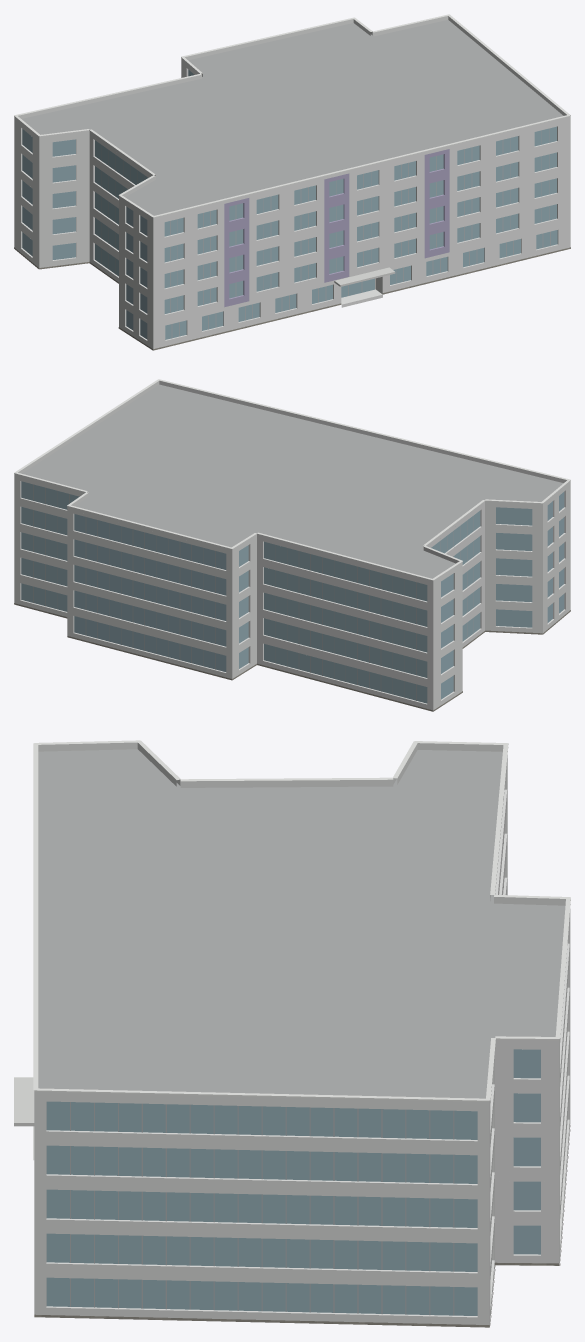
3 renders of one model, top to bottom at view 1: azimuth 30°, elevation 25°; view 2: azimuth 150°, elevation 25°; view 3: azimuth 270°, elevation 25°, orthographic. The views are drawn at different scales.
Visible parts, largest first — view 1: osm137109713__roof, osm137109713__wall, osm137109713__glass, osm137109713__wall2, osm137109713__parapet, osm137109713__trim, osm137109713__frame, osm137109713__base, osm137109713__canopy; view 2: osm137109713__roof, osm137109713__glass, osm137109713__wall, osm137109713__parapet, osm137109713__trim, osm137109713__frame, osm137109713__base; view 3: osm137109713__roof, osm137109713__glass, osm137109713__wall, osm137109713__trim, osm137109713__parapet, osm137109713__frame, osm137109713__base, osm137109713__canopy.
Part boxes in pixels (x1,y1,x2,y2): osm137109713__roof: (22,20,563,215); osm137109713__wall: (14,61,570,349); osm137109713__glass: (22,70,557,339); osm137109713__wall2: (224,149,449,307); osm137109713__parapet: (14,16,570,220); osm137109713__trim: (14,14,570,217); osm137109713__frame: (101,128,550,338); osm137109713__base: (14,247,570,350); osm137109713__canopy: (334,267,395,286); osm137109713__roof: (22,384,563,578); osm137109713__glass: (21,481,564,703); osm137109713__wall: (14,477,570,711); osm137109713__parapet: (14,380,570,583); osm137109713__trim: (14,379,570,580); osm137109713__frame: (33,484,473,700); osm137109713__base: (14,603,570,711); osm137109713__roof: (38,749,565,1327); osm137109713__glass: (46,1049,540,1315); osm137109713__wall: (34,756,570,1326); osm137109713__trim: (33,740,570,1101); osm137109713__parapet: (34,742,565,1106); osm137109713__frame: (70,798,503,1315); osm137109713__base: (34,1125,570,1327); osm137109713__canopy: (14,1077,34,1126).
Size of the model in its own units: 63.18 by 18.95 by 41.27.
Materials: 11 (1 with a texture image).
